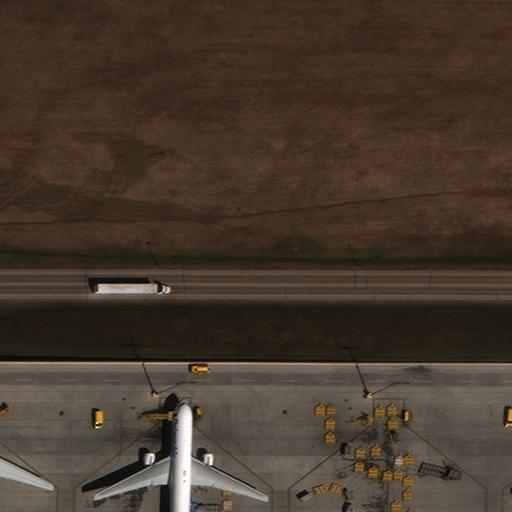Large Civil Transport: (94, 399, 267, 511), (0, 430, 52, 511)
